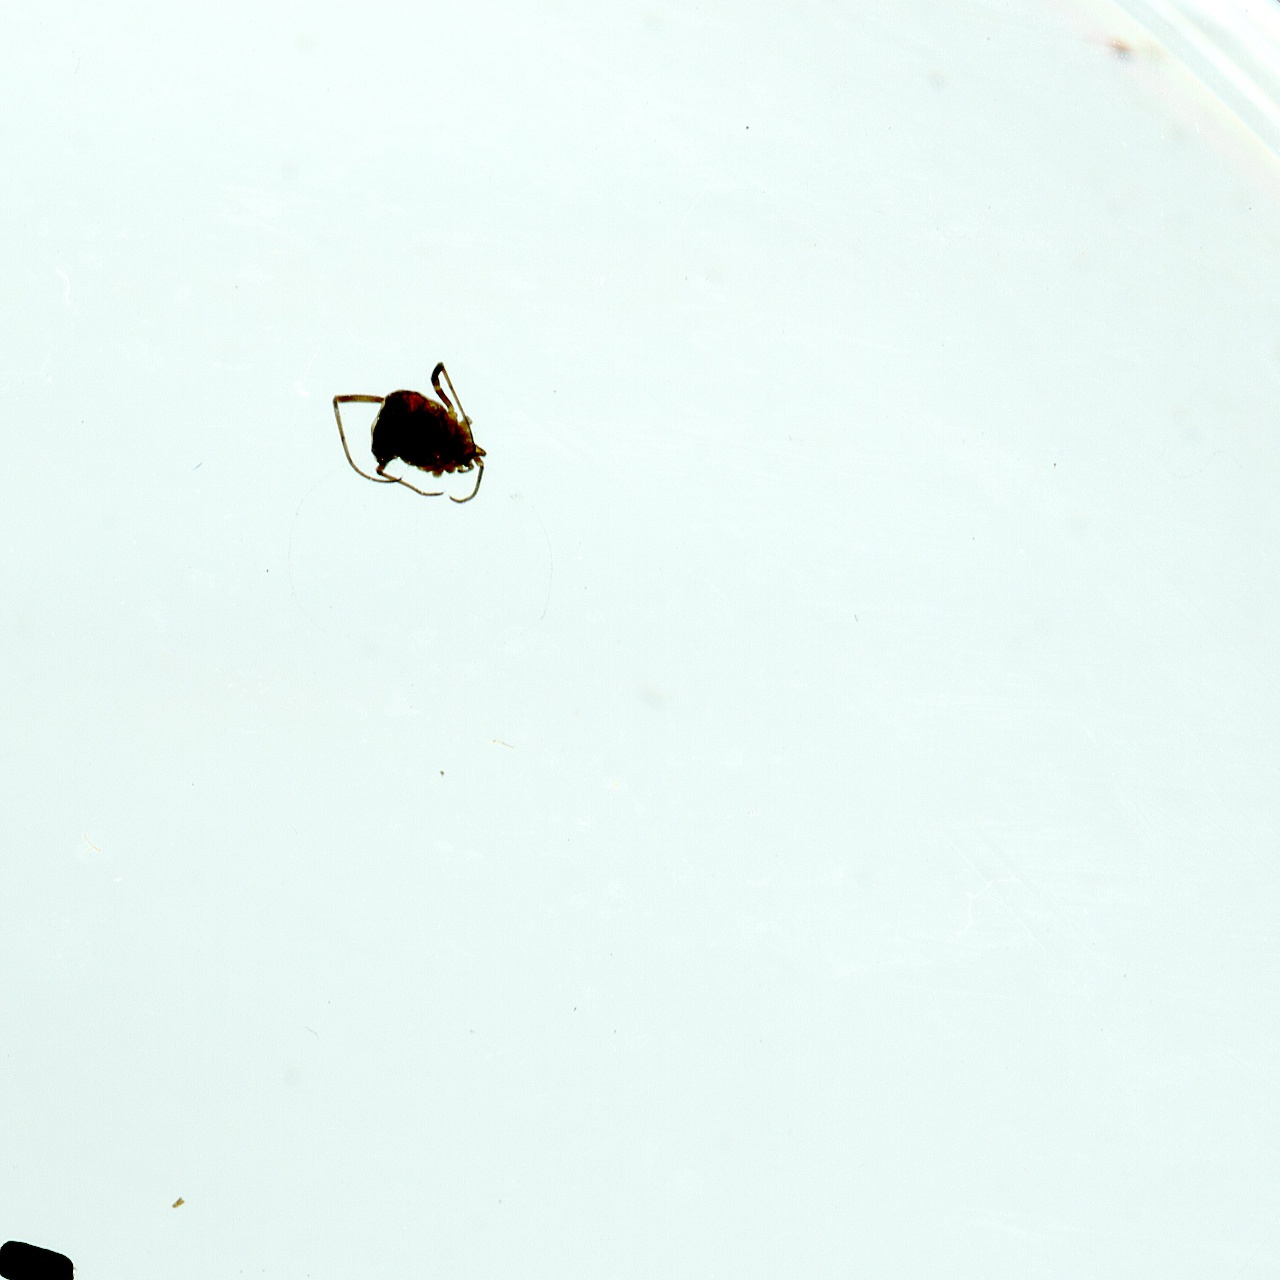arthropod: (312, 351, 499, 527)
